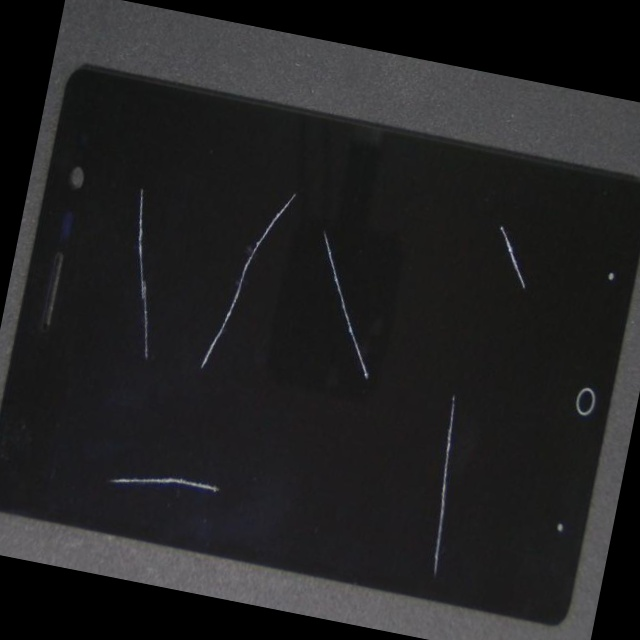scratch: (212, 397, 624, 640), (34, 210, 333, 544), (211, 284, 545, 500), (303, 128, 640, 325), (83, 275, 226, 460)
